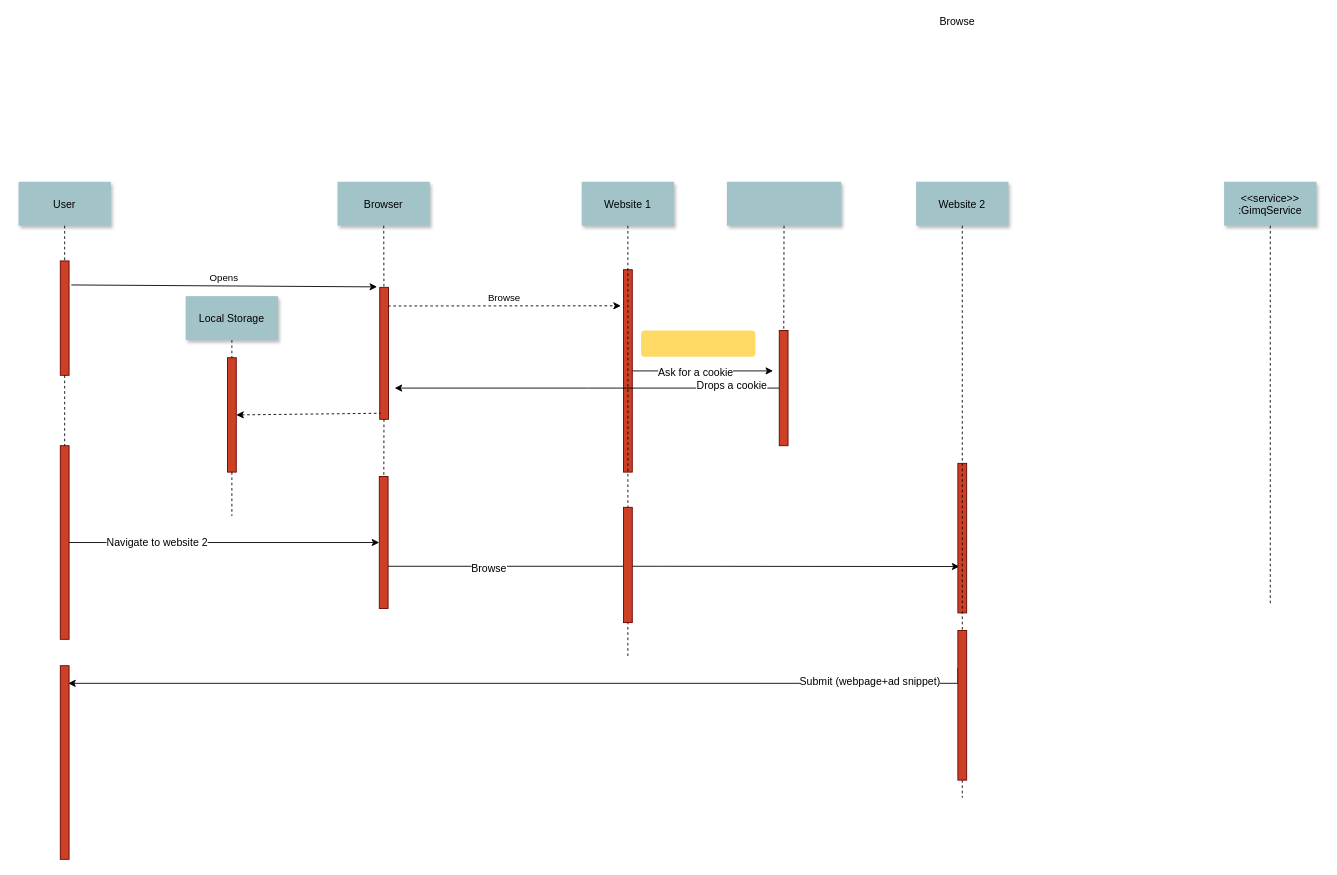
Some shapes in this 1337 by 875 pixel diagram are drawn without their labels. The shapes that lost their labels are listed below. From the top down, each one's centre as x and y in pixels, then its label:
At (784,204): "Google Pixel service".
At (698,343): "Google Pixel snippet".
